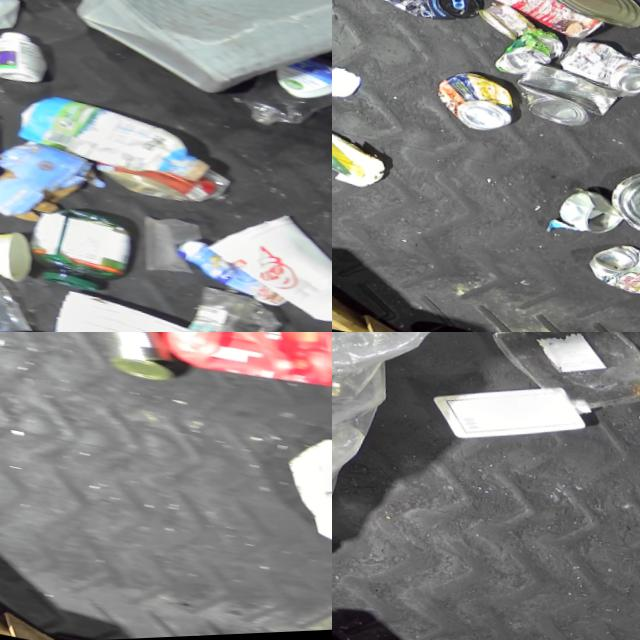can: (499, 57, 621, 143), (421, 66, 515, 141), (545, 35, 640, 109), (474, 0, 609, 52), (71, 332, 182, 391), (483, 23, 563, 89), (569, 238, 640, 311), (589, 159, 640, 254), (518, 0, 640, 38), (350, 0, 482, 35), (546, 187, 620, 245), (467, 0, 535, 50)
milk_jug: (415, 357, 596, 473), (254, 429, 332, 562)
non_white_jug: (56, 0, 332, 144), (109, 332, 332, 413), (615, 341, 640, 463)
